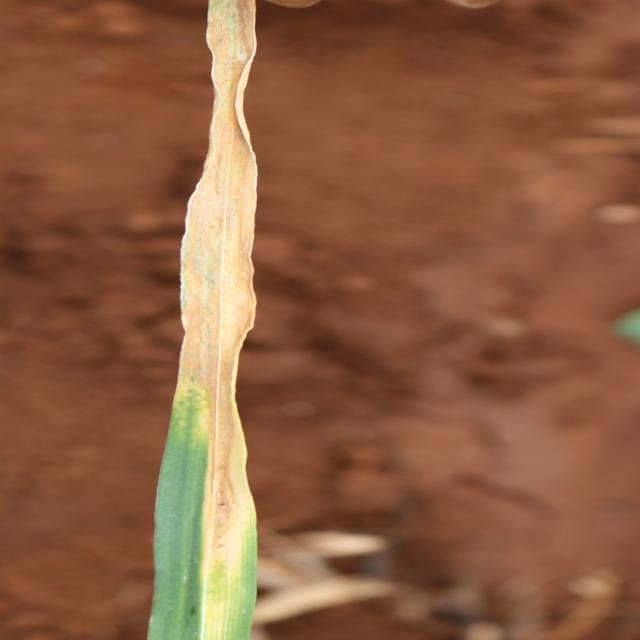Septoria: (146, 1, 262, 638)
